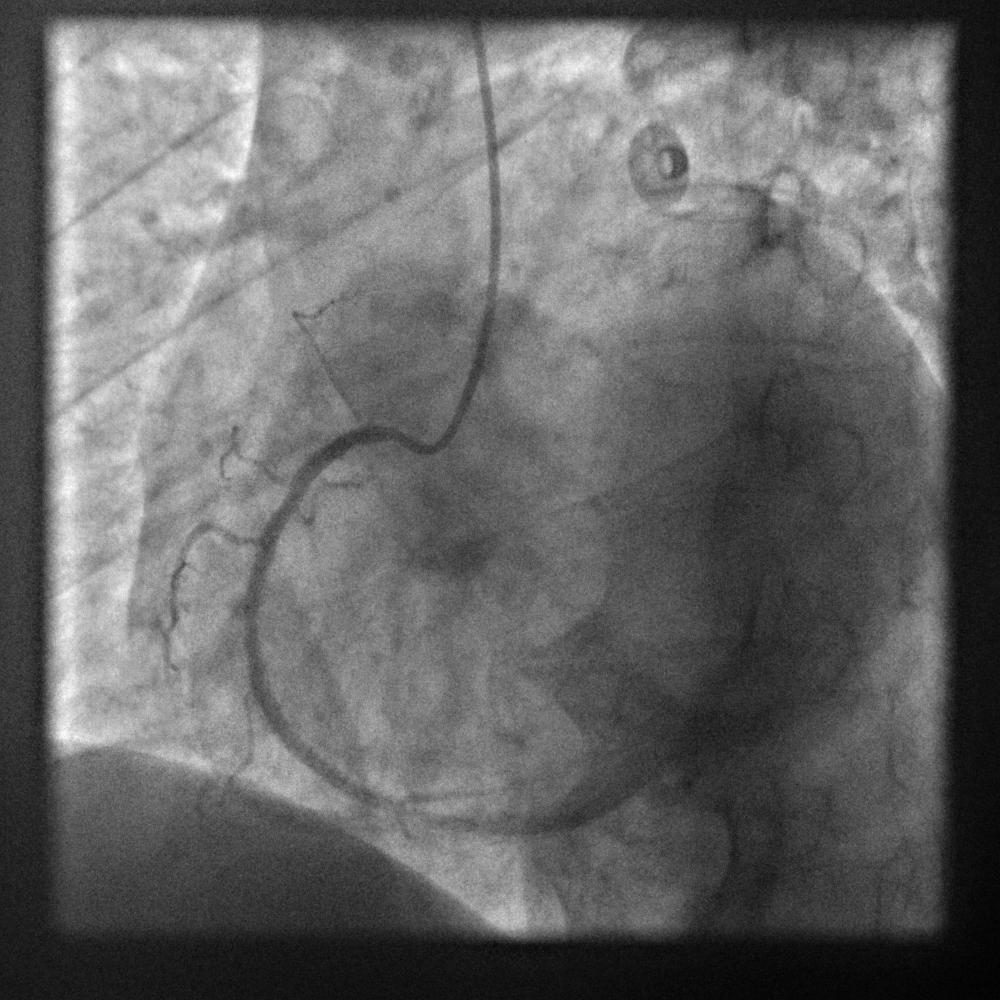Stenosis: (271, 475, 303, 528)
